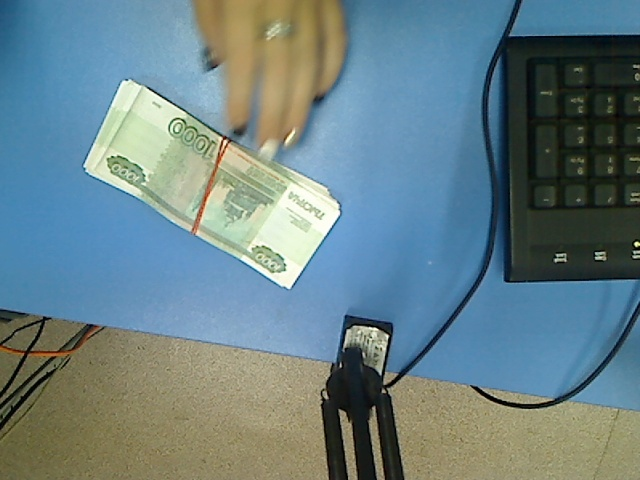banknotes: (79, 78, 341, 293)
